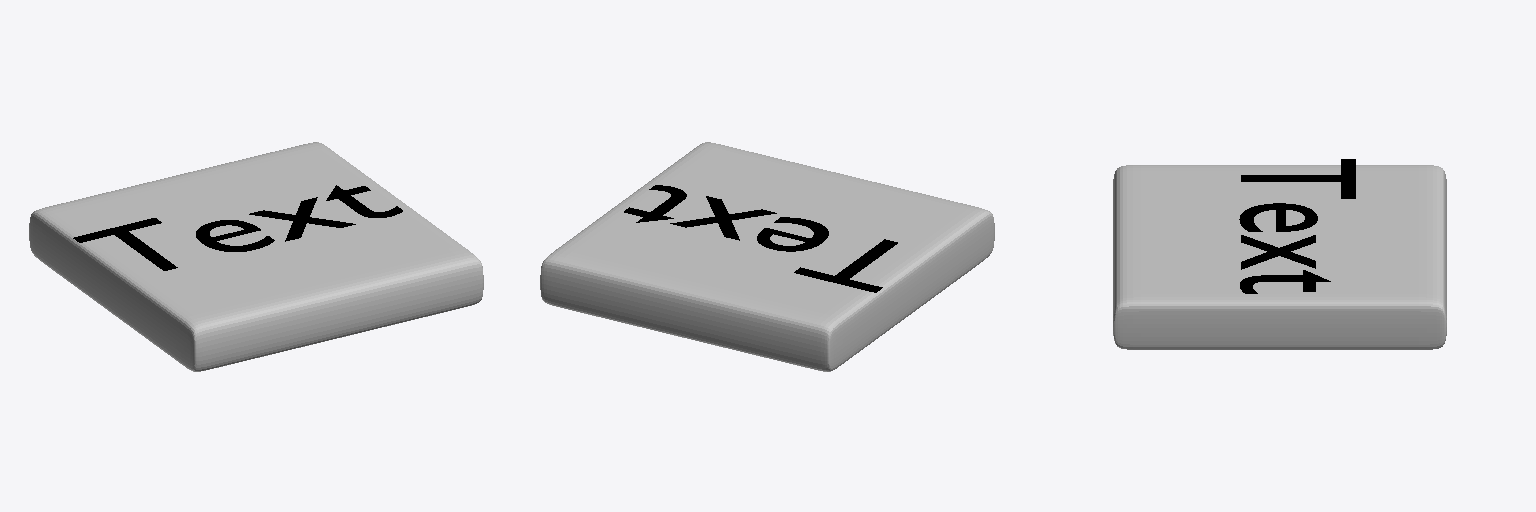
The model's file is coba.obj.
The picture shows the model from 3 angles: view 1: azimuth 30°, elevation 25°; view 2: azimuth 150°, elevation 25°; view 3: azimuth 270°, elevation 25°; orthographic projection.
Visible parts, largest first — view 1: Cube, Text; view 2: Cube, Text; view 3: Cube, Text.
Boxes of the visible parts, x1,y1,x2,y2 form: Cube: [29, 142, 483, 371]; Text: [73, 185, 402, 270]; Cube: [540, 142, 994, 371]; Text: [624, 185, 897, 292]; Cube: [1113, 165, 1446, 349]; Text: [1239, 159, 1355, 293].
Bounding box in the file's own units: 2 × 0.3432 × 1.99.